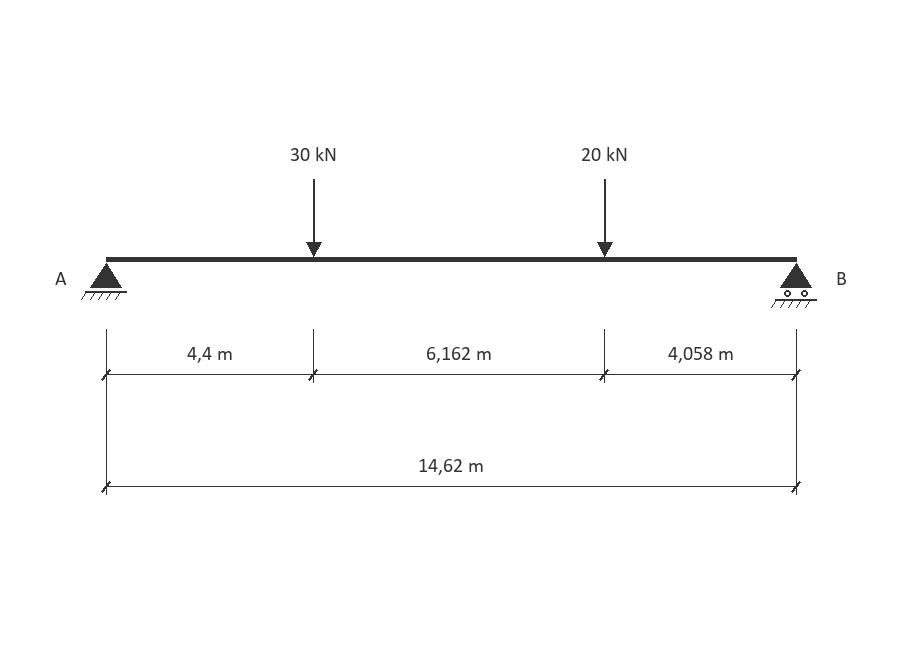pin_support: (81, 263, 127, 300)
point_load: (306, 179, 322, 257), (597, 179, 613, 257)
roller_support: (771, 263, 817, 308)
